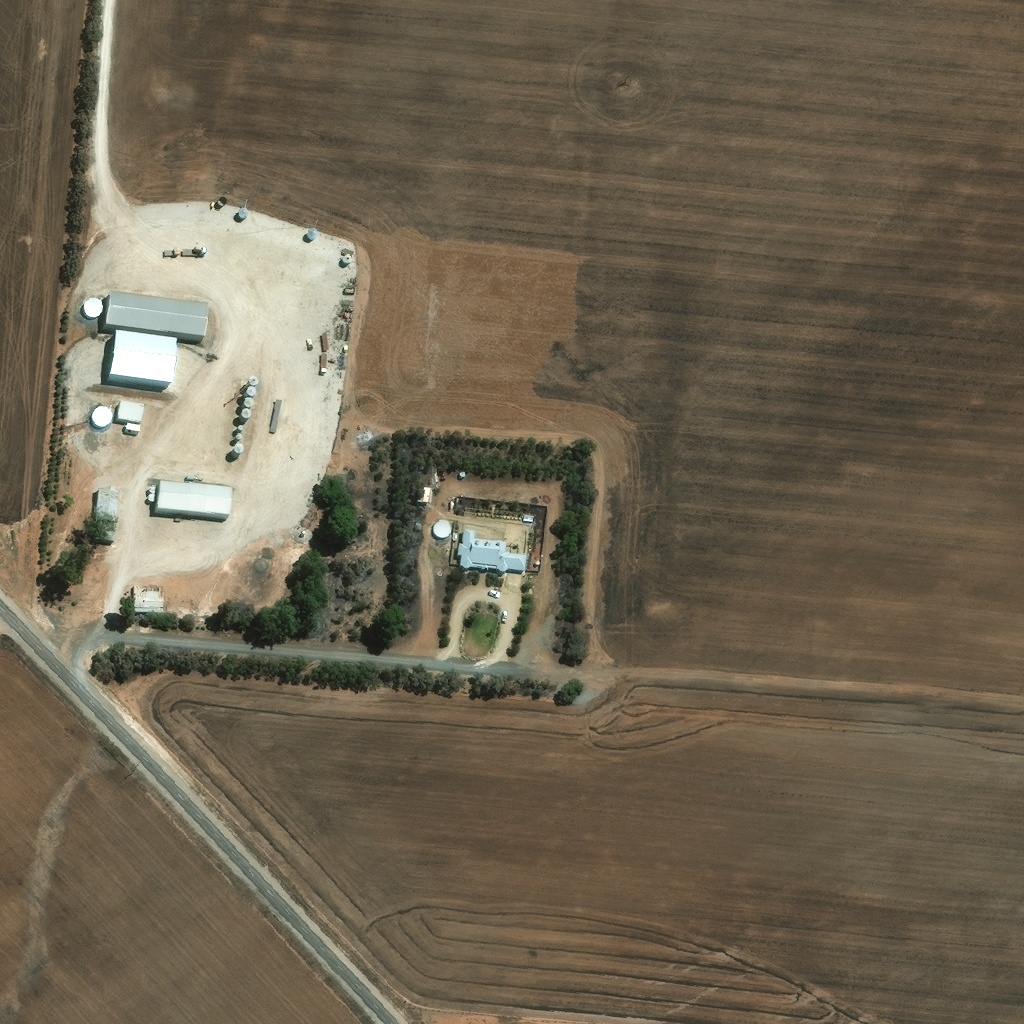0 no-damage: (104, 294, 210, 341), (457, 528, 528, 573), (157, 481, 235, 516), (95, 486, 120, 539), (133, 584, 165, 612), (118, 400, 145, 423), (83, 298, 105, 318), (434, 520, 452, 539), (418, 488, 431, 505), (249, 379, 260, 390), (244, 400, 254, 411), (240, 412, 250, 422), (234, 447, 244, 457), (246, 391, 257, 400), (343, 256, 352, 266), (460, 471, 468, 478), (236, 434, 244, 440), (238, 426, 243, 431)
4 un-classified: (323, 302, 335, 314), (250, 209, 262, 221), (213, 203, 226, 214), (263, 216, 275, 227), (335, 389, 347, 399), (188, 199, 199, 209), (227, 204, 237, 215), (201, 202, 210, 212), (239, 208, 248, 218)
